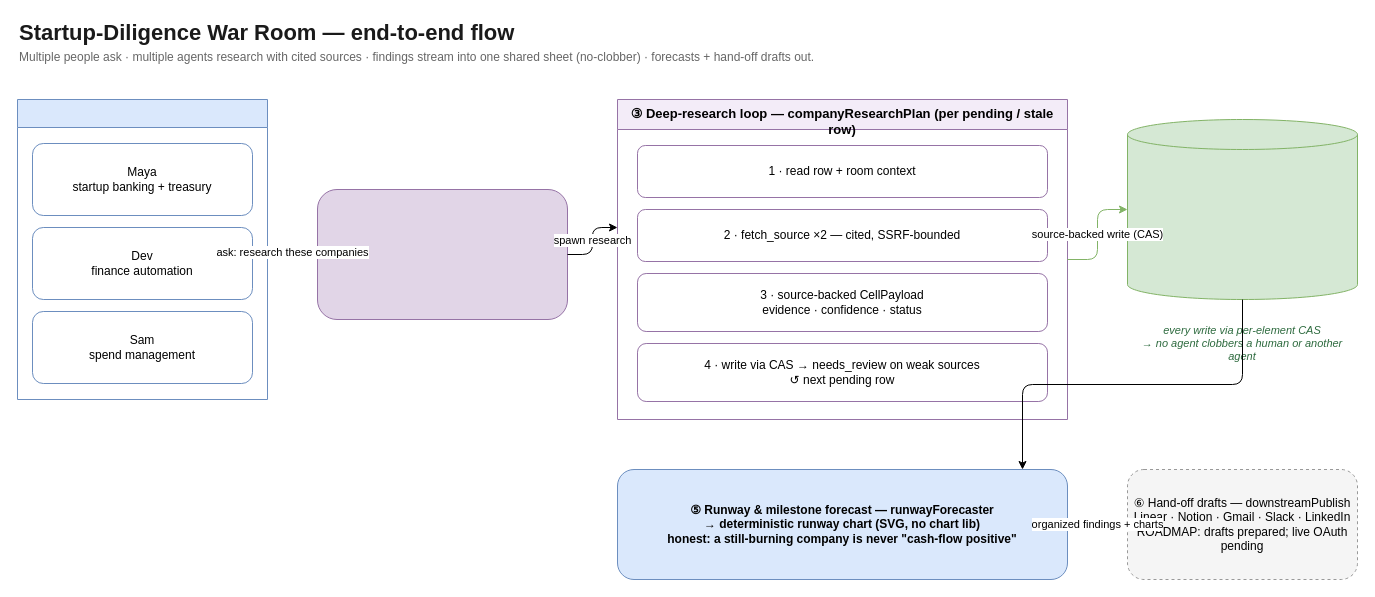
The diagram is 1375 pixels wide and 597 high, and some of its shapes have lost their labels. The box of each missing label's shape, as (x1, y1, x2, y2) in pixels:
① Users: (16, 98, 268, 400)
② Agents per user · per company self-directed: skills.md + minimal tools: (316, 188, 568, 320)
④ Shared sheet Company Research CRM (Convex artifact) Mercury · Ramp · Brex …: (1126, 118, 1358, 300)
